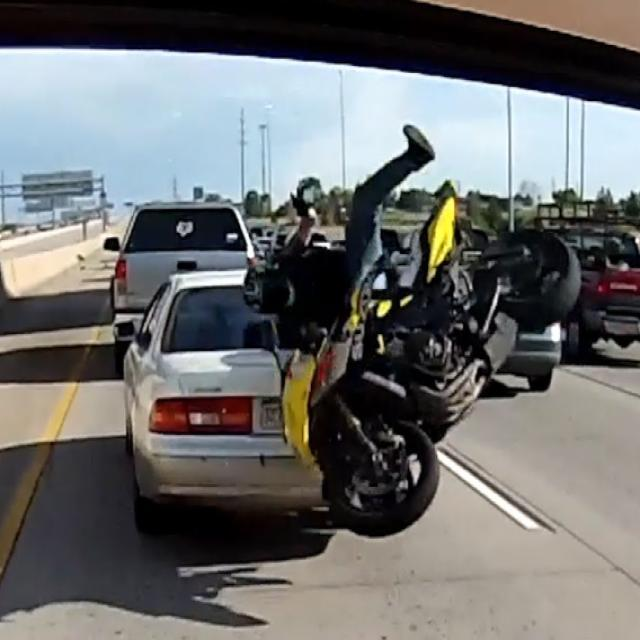accident: (122, 123, 582, 541)
